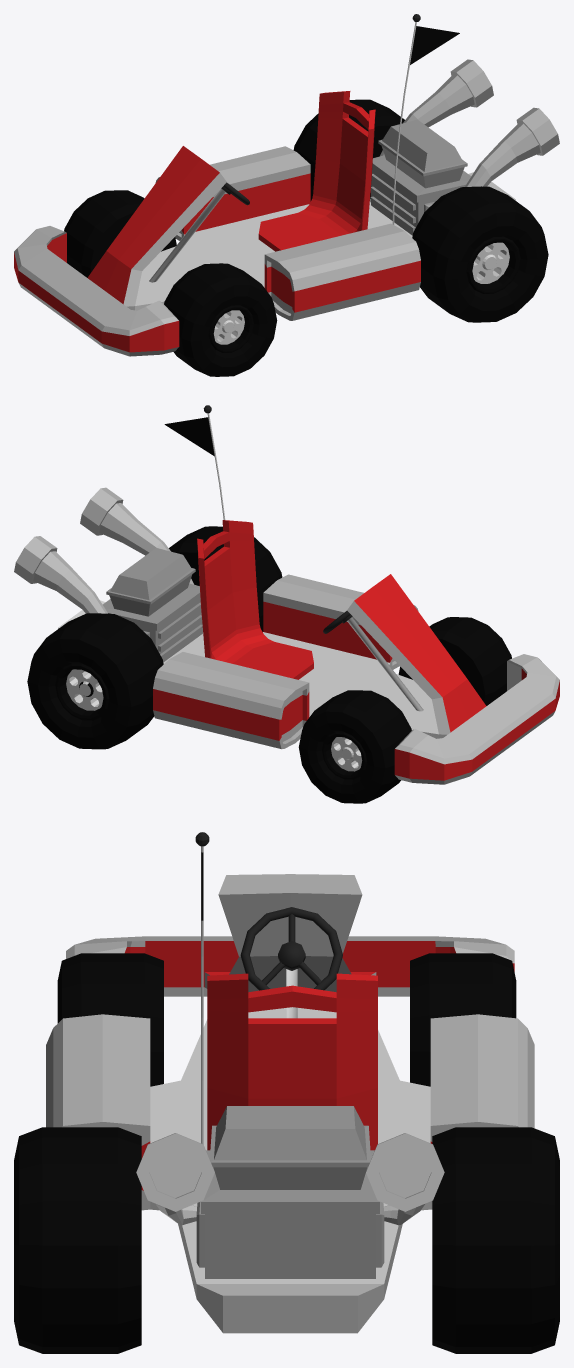
Rendered from Kart2.fbx.
The picture shows the model from 3 angles, top to bottom: view 1: azimuth 30°, elevation 25°; view 2: azimuth 150°, elevation 25°; view 3: azimuth 270°, elevation 25°; orthographic projection. The views are drawn at different scales.
Parts seen in each view (by area): view 1: Steering.Wheel.002, Default.Kart.006, Default.Kart.005; view 2: Steering.Wheel.002, Default.Kart.006, Default.Kart.005; view 3: Steering.Wheel.002, Default.Kart.006, Default.Kart.005.
Part boxes in pixels (x1,y1,x2,y2): Steering.Wheel.002: (14, 14, 559, 356); Default.Kart.006: (293, 99, 548, 322); Default.Kart.005: (64, 190, 277, 376); Steering.Wheel.002: (14, 405, 559, 784); Default.Kart.006: (27, 526, 282, 749); Default.Kart.005: (298, 617, 511, 803); Steering.Wheel.002: (46, 832, 534, 1333); Default.Kart.006: (14, 1127, 559, 1353); Default.Kart.005: (57, 953, 516, 1086).
Size of the model in its own units: 318 by 185 by 187.
